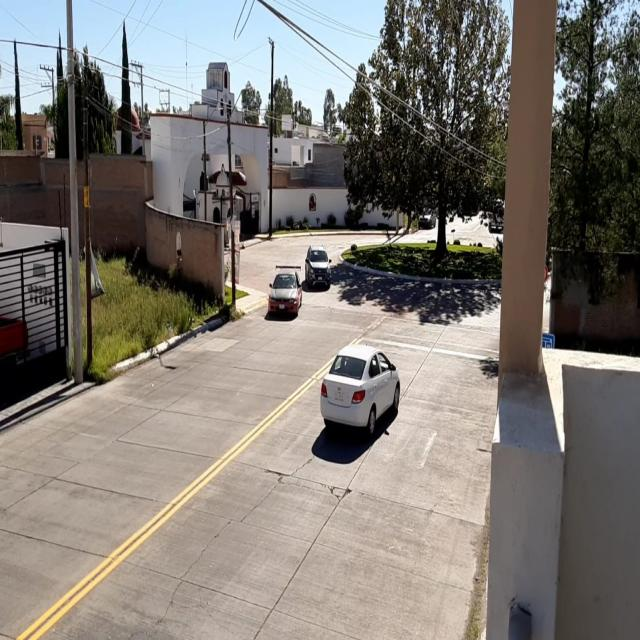Auto: (319, 344, 401, 442), (269, 267, 301, 322), (307, 247, 331, 292)
